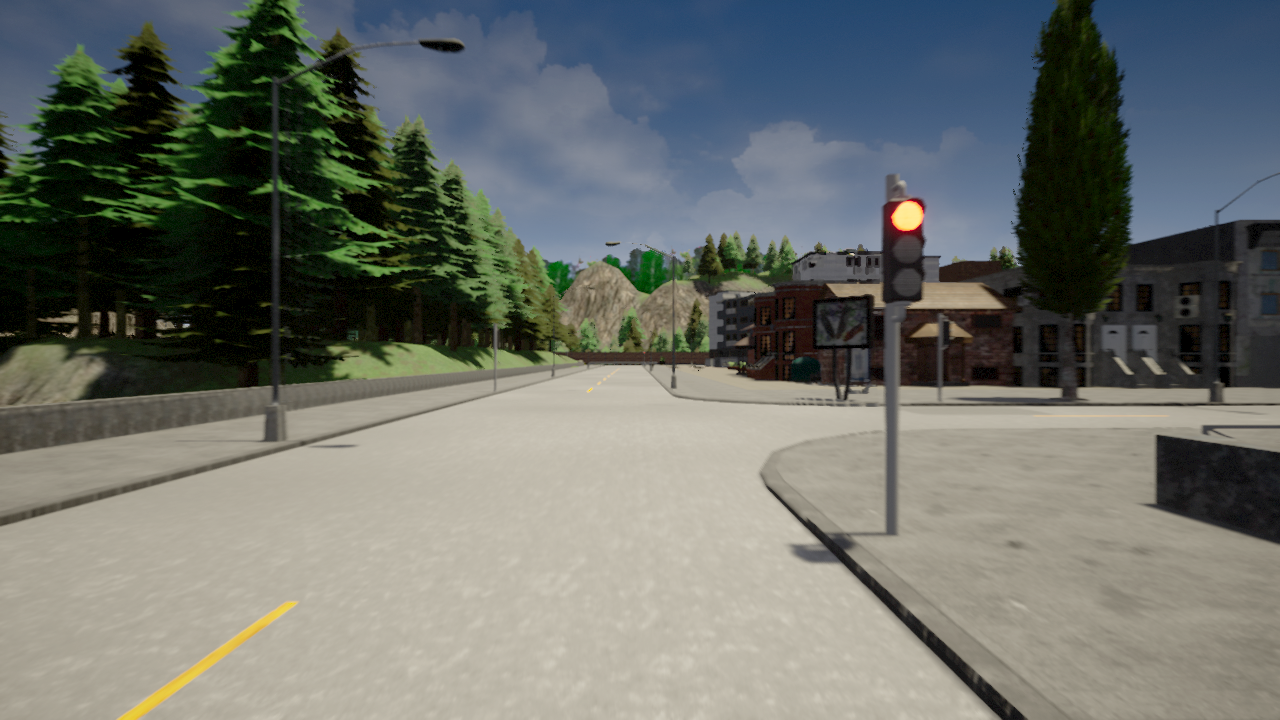red: (883, 198, 928, 307)
